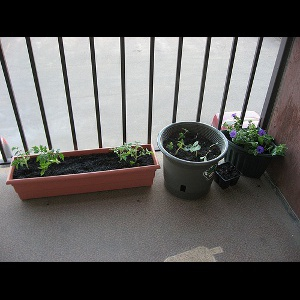flowerpot: (157, 121, 229, 203), (226, 129, 275, 178)
